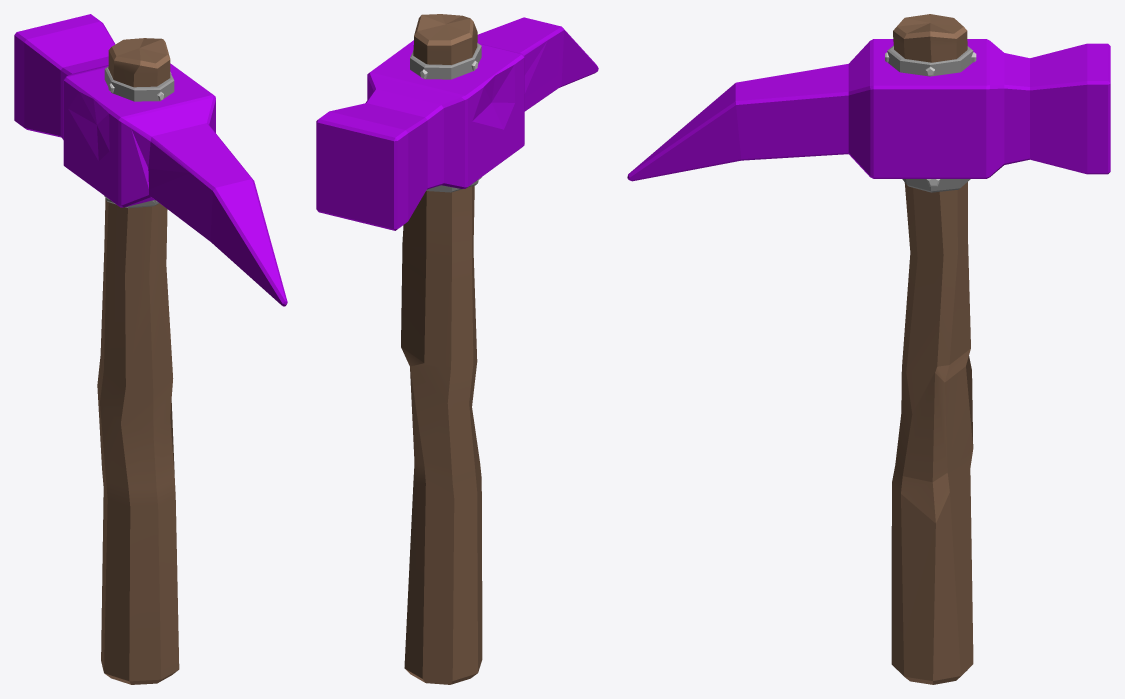
Rendered from Hammer4_Purple.fbx.
3 renders of one model, left to right at view 1: azimuth 30°, elevation 25°; view 2: azimuth 150°, elevation 25°; view 3: azimuth 270°, elevation 25°, orthographic. The views are drawn at different scales.
Visible parts, largest first — view 1: Hammer4_Purple; view 2: Hammer4_Purple; view 3: Hammer4_Purple.
Boxes of the visible parts, x1,y1,x2,y2 form: Hammer4_Purple: [14, 14, 287, 684]; Hammer4_Purple: [316, 14, 598, 684]; Hammer4_Purple: [627, 14, 1110, 684].
Bounding box in the file's own units: 9.23 × 57.03 × 38.39.
